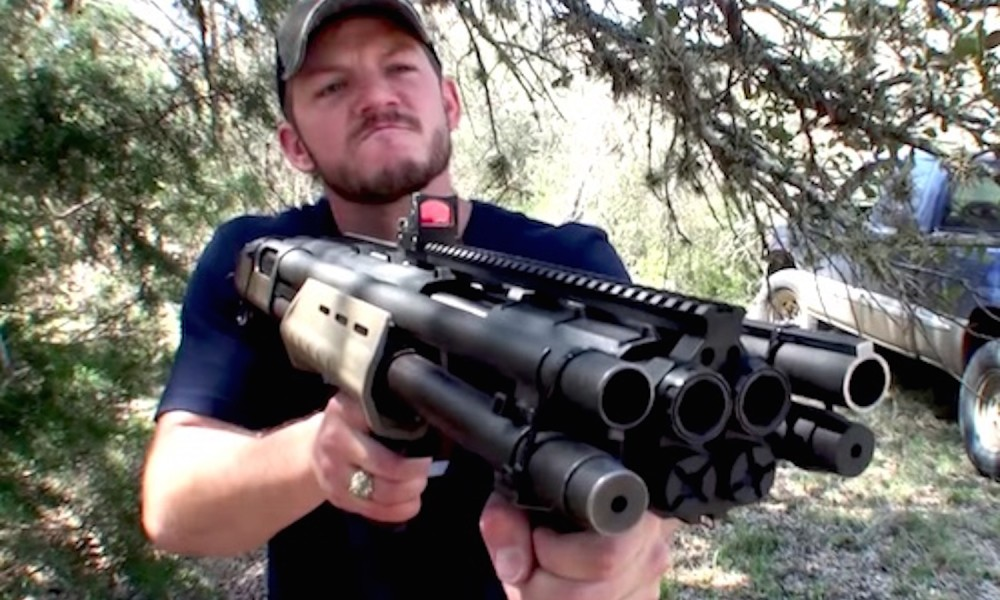Gun: (312, 248, 859, 498)
